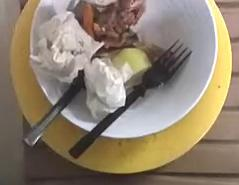fruit: (110, 47, 149, 73)
unknown: (73, 0, 144, 49), (143, 44, 164, 57)
